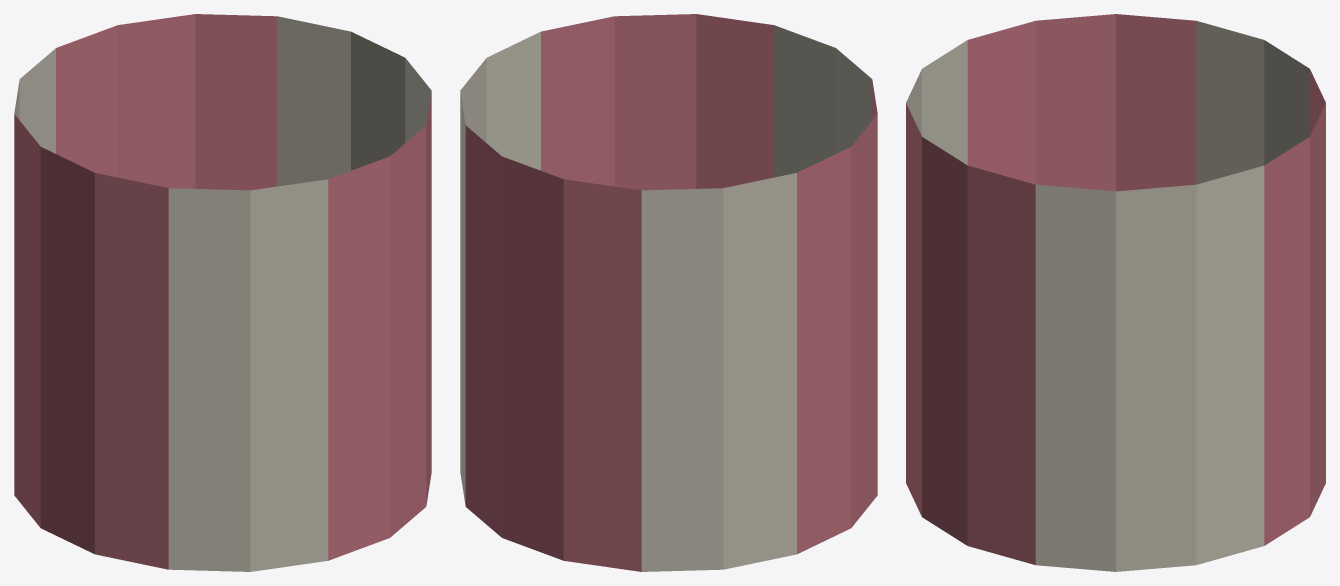
Rendered from jeton_5.glb.
3 views of the same model, side by side, from view 1: azimuth 30°, elevation 25°; view 2: azimuth 150°, elevation 25°; view 3: azimuth 270°, elevation 25° (orthographic).
Visible parts, largest first — view 1: jeton_5_0; view 2: jeton_5_0; view 3: jeton_5_0.
Part boxes in pixels (left/top/right/bottom): jeton_5_0: left=14, top=14, right=431, bottom=571; jeton_5_0: left=460, top=14, right=877, bottom=571; jeton_5_0: left=906, top=14, right=1325, bottom=571.
Size of the model in its own units: 1 by 1 by 1.
